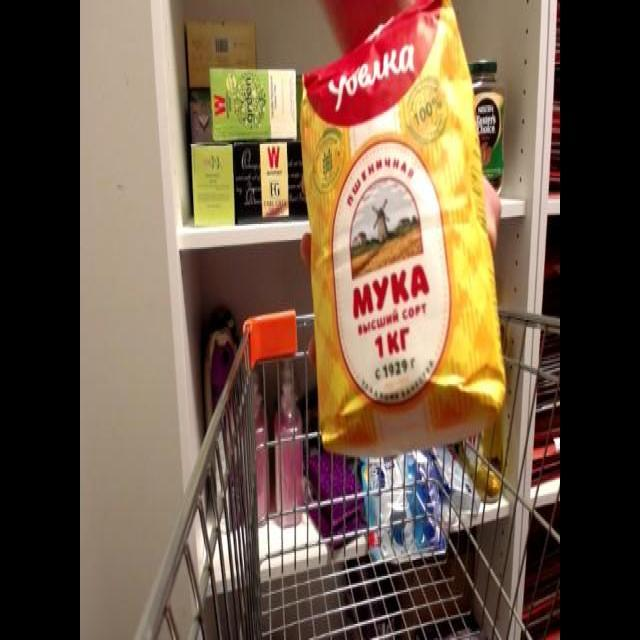Flour: (300, 4, 506, 464)
